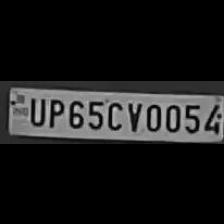0: (142, 99, 162, 131), (162, 100, 180, 132)
4: (201, 100, 221, 132)
5: (180, 99, 200, 133), (84, 97, 104, 129)
6: (64, 96, 84, 128)
C: (104, 98, 122, 130)
P: (44, 94, 64, 126)
U: (25, 94, 45, 125)
V: (124, 97, 142, 130)
